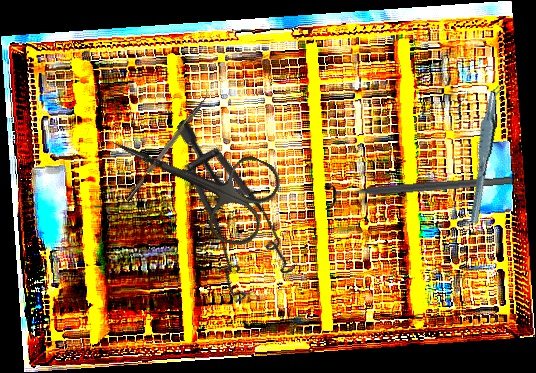Chopper: (119, 87, 214, 202)
Fixation Ring: (323, 165, 514, 212)
Iris Scissors: (95, 100, 286, 253)
Speculum: (114, 118, 328, 319)
Tissue Forceps: (453, 81, 518, 225)
